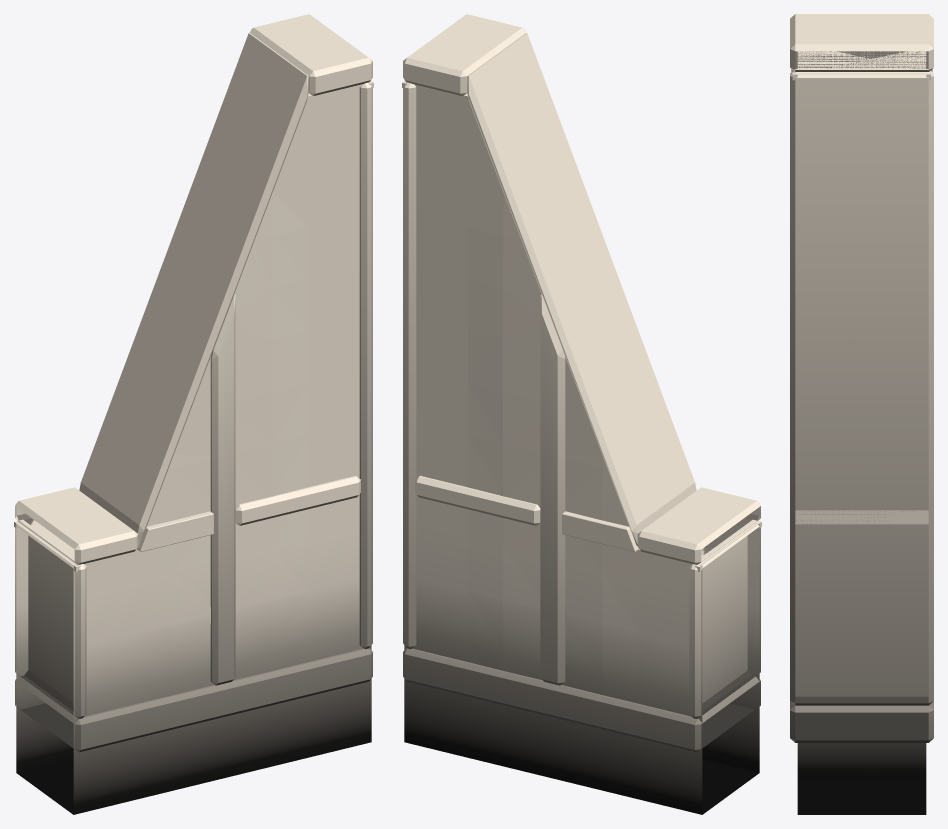
Rendered from SM_VKI_Wall_Timber_Rake_150_L.fbx.
The picture shows the model from 3 angles, left to right: view 1: azimuth 30°, elevation 25°; view 2: azimuth 150°, elevation 25°; view 3: azimuth 270°, elevation 25°; orthographic projection. The views are drawn at different scales.
Parts seen in each view (by area): view 1: SM_VKI_Wall_Timber_Rake_150_L.001; view 2: SM_VKI_Wall_Timber_Rake_150_L.001; view 3: SM_VKI_Wall_Timber_Rake_150_L.001.
Boxes of the visible parts, left/top/right/bottom form: SM_VKI_Wall_Timber_Rake_150_L.001: left=14, top=14, right=373, bottom=814; SM_VKI_Wall_Timber_Rake_150_L.001: left=402, top=14, right=761, bottom=814; SM_VKI_Wall_Timber_Rake_150_L.001: left=790, top=14, right=933, bottom=814.
Size of the model in its own units: 1.5 by 3.3 by 0.56.
